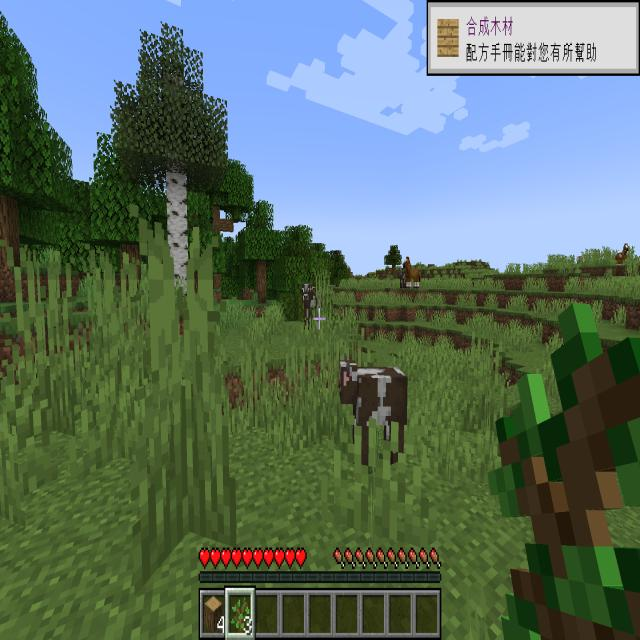cow: (328, 337, 426, 480), (299, 268, 339, 332)
